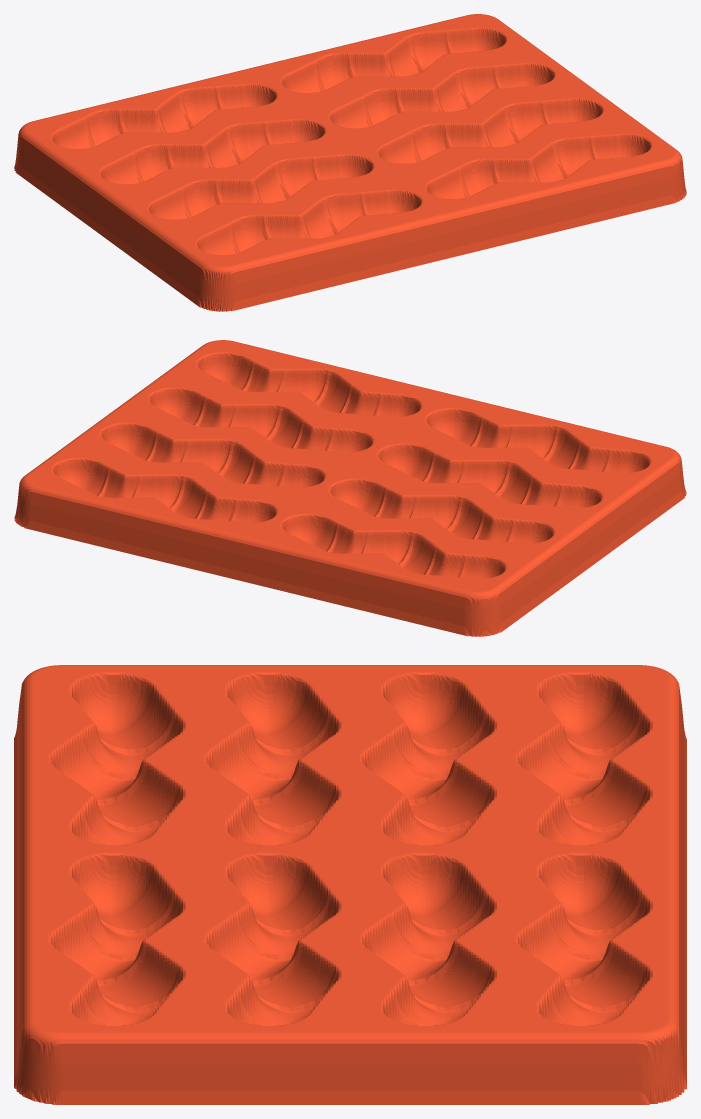
Rendered from mold.glb.
3 views of the same model, one above another, from view 1: azimuth 30°, elevation 25°; view 2: azimuth 150°, elevation 25°; view 3: azimuth 270°, elevation 25° (orthographic). The views are drawn at different scales.
Visible parts, largest first — view 1: geometry_0; view 2: geometry_0; view 3: geometry_0.
Part boxes in pixels (x1=…): geometry_0: x1=14, y1=14, x2=686, y2=311; geometry_0: x1=14, y1=340, x2=686, y2=636; geometry_0: x1=14, y1=665, x2=686, y2=1104.
Bounding box in the file's own units: 0.1715 × 0.0135 × 0.1275.
